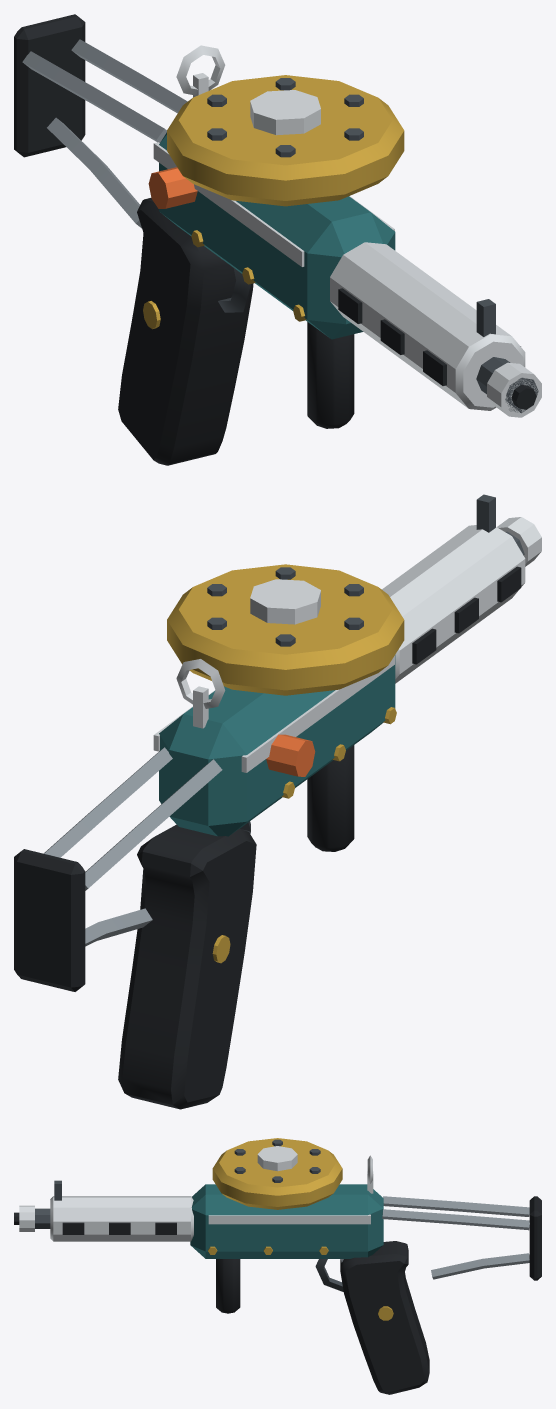
Rendered from Weapon_RivetSMG.fbx.
3 renders of one model, top to bottom at view 1: azimuth 30°, elevation 25°; view 2: azimuth 150°, elevation 25°; view 3: azimuth 270°, elevation 25°, orthographic. The views are drawn at different scales.
Parts seen in each view (by area): view 1: RivetSMG; view 2: RivetSMG; view 3: RivetSMG.
Part boxes in pixels (x1=…): RivetSMG: x1=14, y1=14, x2=541, y2=465; RivetSMG: x1=14, y1=494, x2=541, y2=1109; RivetSMG: x1=14, y1=1138, x2=541, y2=1394.
Bounding box in the file's own units: 0.84 × 1.67 × 3.41.
